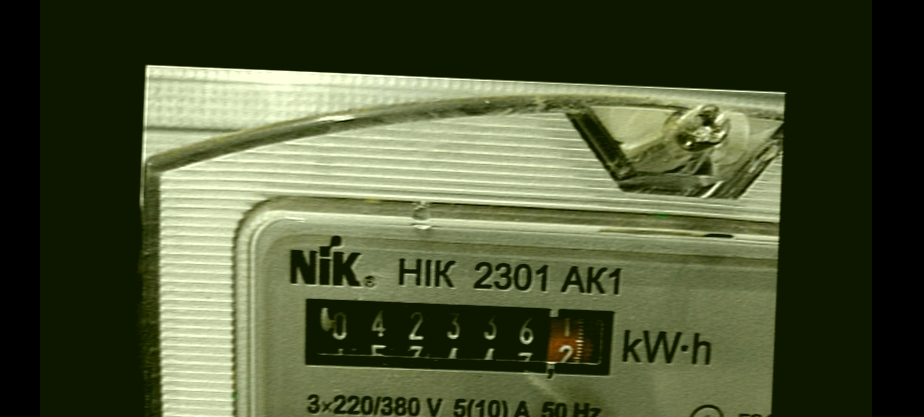0: (330, 306, 350, 340)
1: (560, 310, 573, 337)
2: (406, 305, 428, 340), (556, 341, 574, 363)
3: (443, 306, 462, 339), (482, 308, 500, 340)
4: (370, 304, 388, 337)
6: (517, 311, 538, 346)
screen: (290, 282, 629, 387)
